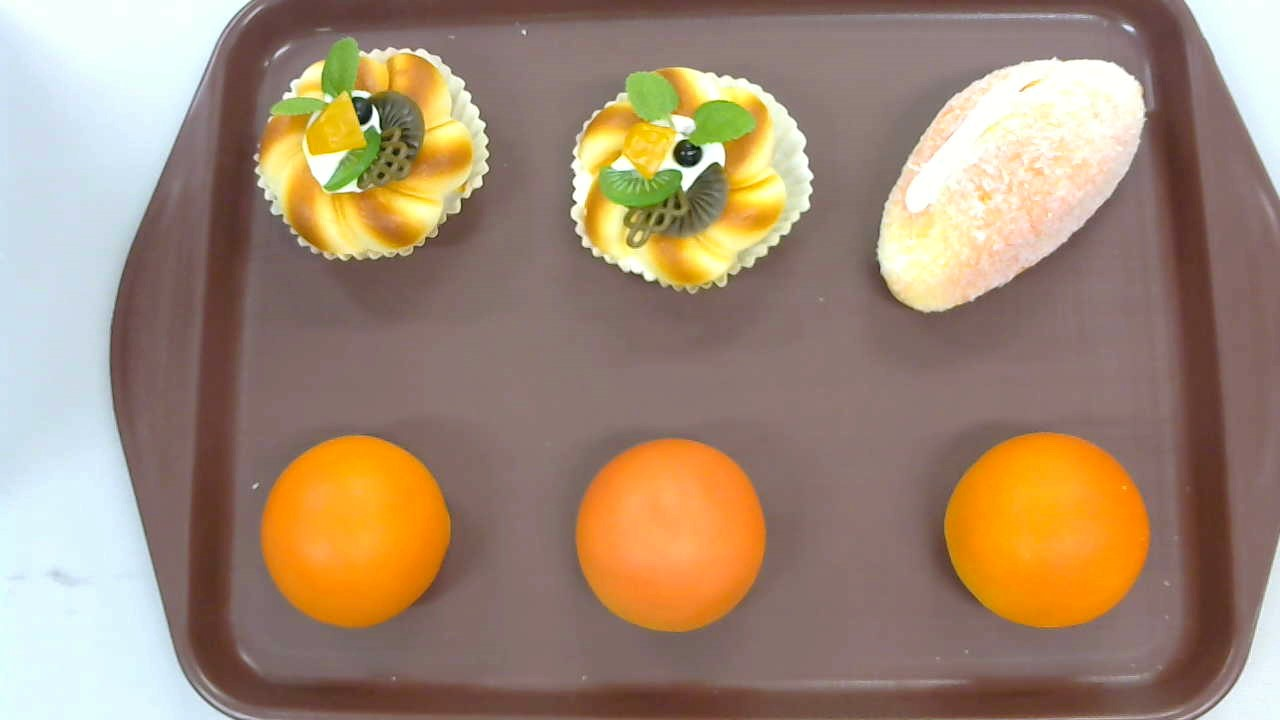bun: (944, 432, 1150, 628), (575, 439, 767, 634), (261, 434, 451, 628)
coconut: (874, 59, 1145, 314)
fruit tart: (568, 66, 815, 297), (253, 37, 492, 262)
